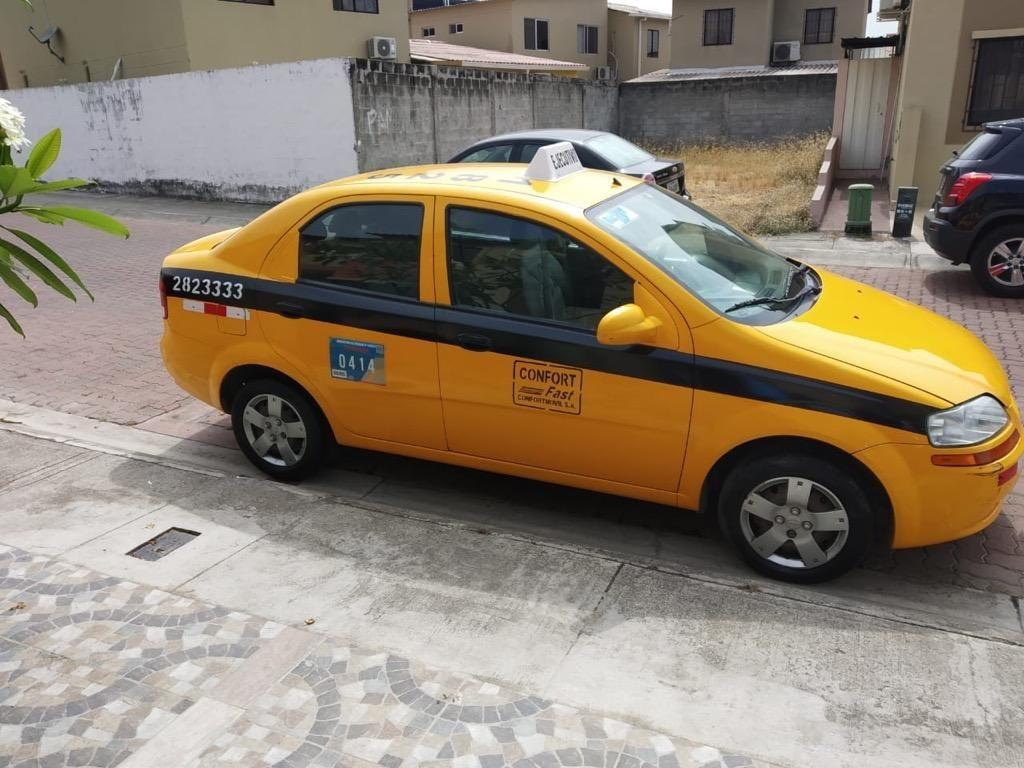taxi: (135, 137, 1024, 608)
